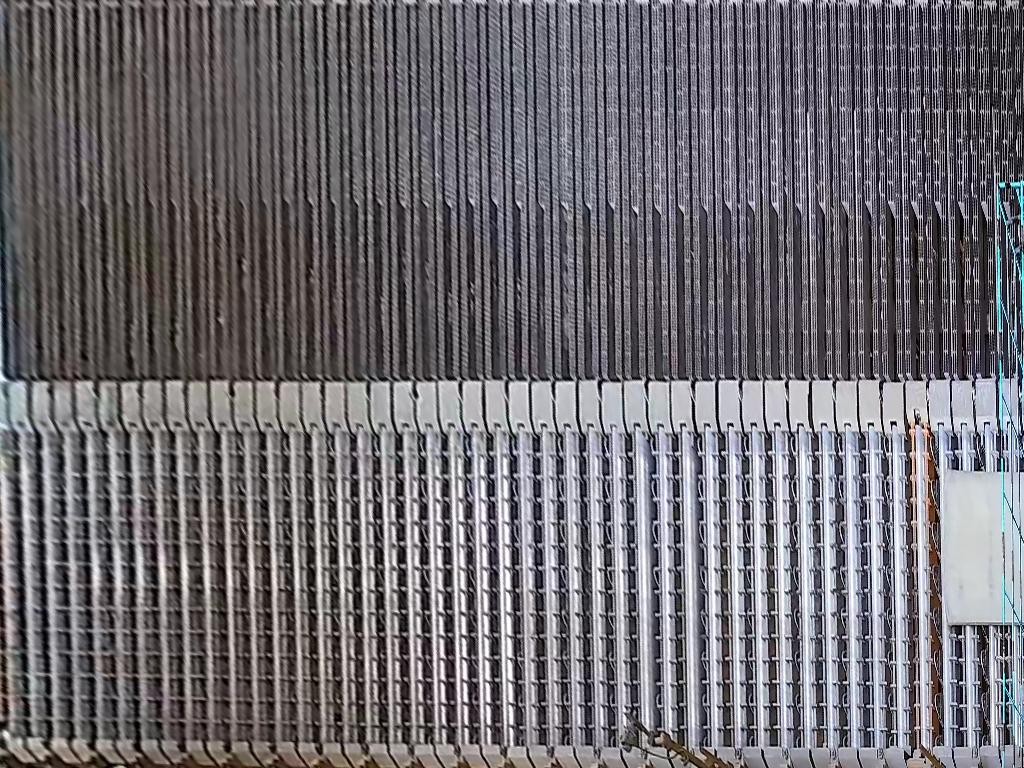steel: (937, 469, 1024, 626)
